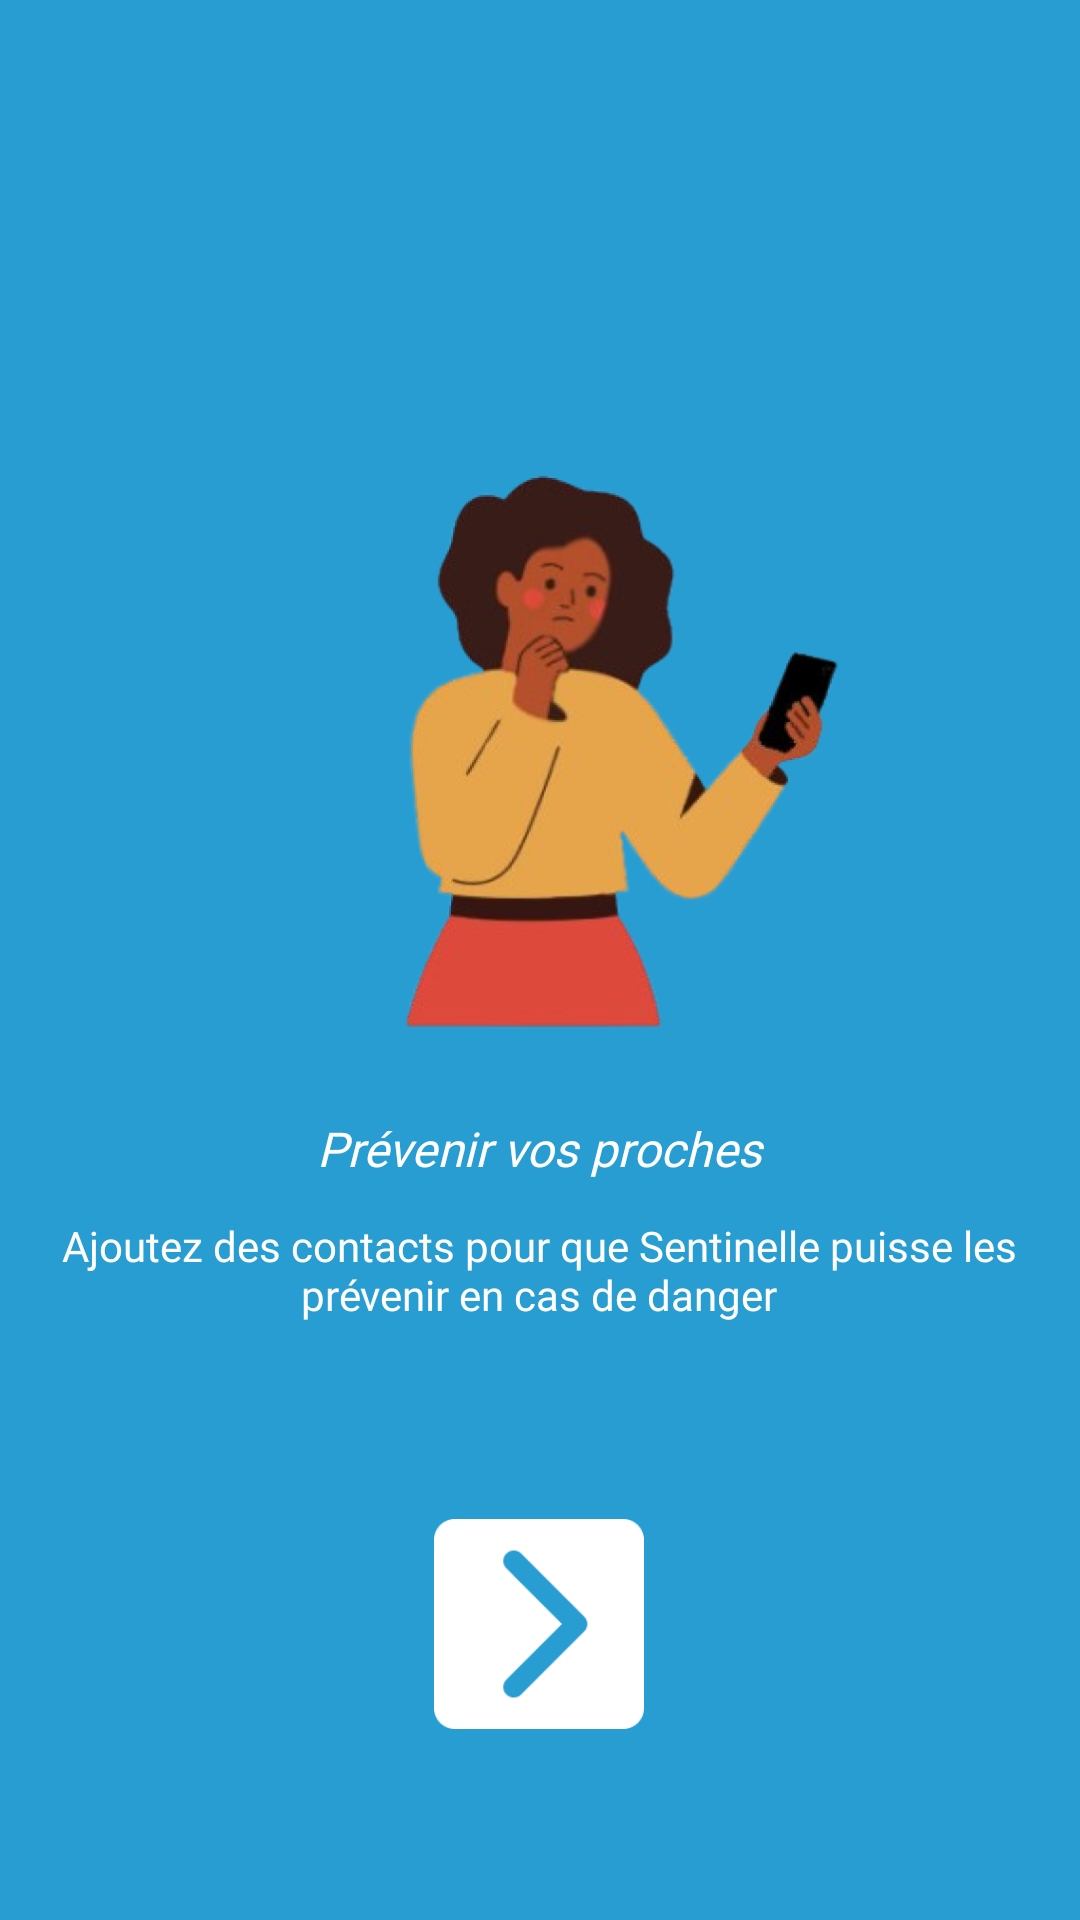

Named icons in this screenshot (1080×1920) and their bounding boxes, Rect(x1, y1, x2, y2):
fleche tuto: Rect(434, 1519, 644, 1729)
